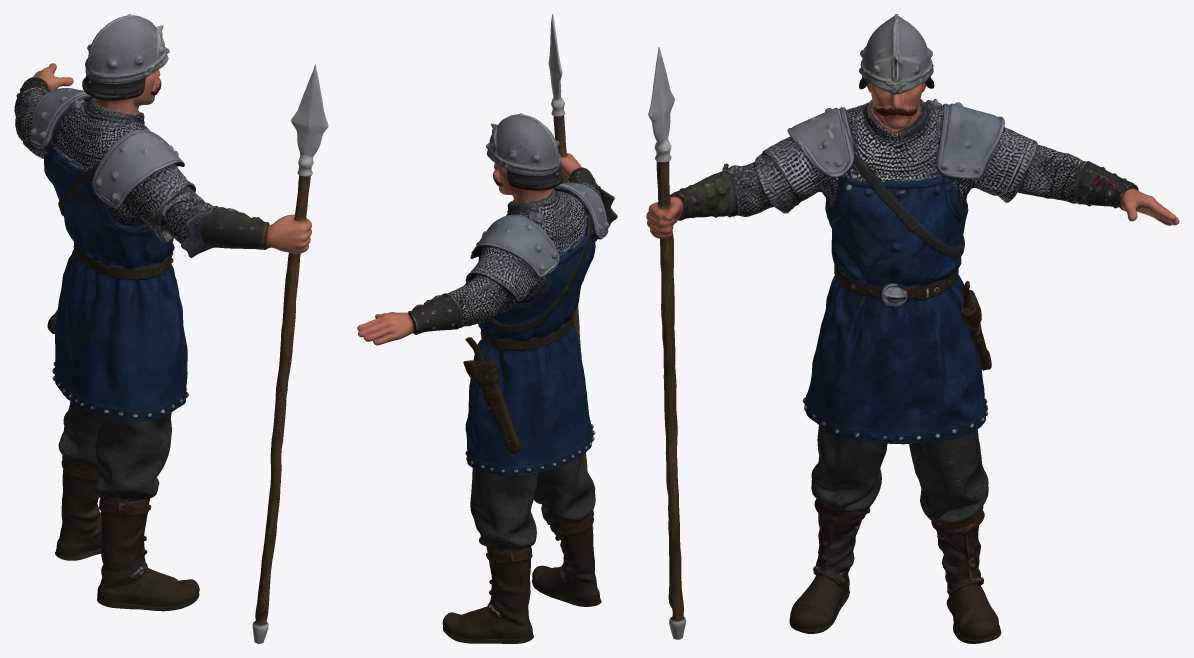
The picture shows the model from 3 angles, left to right: view 1: azimuth 30°, elevation 25°; view 2: azimuth 150°, elevation 25°; view 3: azimuth 270°, elevation 25°; orthographic projection. The views are drawn at different scales.
Visible parts, largest first — view 1: tripo_node_415045b4-3c27-48fd-af2b-d2455b297a2e; view 2: tripo_node_415045b4-3c27-48fd-af2b-d2455b297a2e; view 3: tripo_node_415045b4-3c27-48fd-af2b-d2455b297a2e.
Boxes of the visible parts, x1,y1,x2,y2 form: tripo_node_415045b4-3c27-48fd-af2b-d2455b297a2e: [14, 14, 328, 643]; tripo_node_415045b4-3c27-48fd-af2b-d2455b297a2e: [357, 14, 617, 643]; tripo_node_415045b4-3c27-48fd-af2b-d2455b297a2e: [646, 14, 1179, 643].
Bounding box in the file's own units: 0.2722 × 1 × 0.7843.
Materials: 1 (1 with a texture image).
